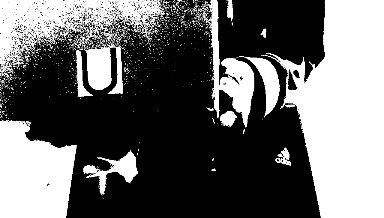U: (75, 48, 120, 94)
